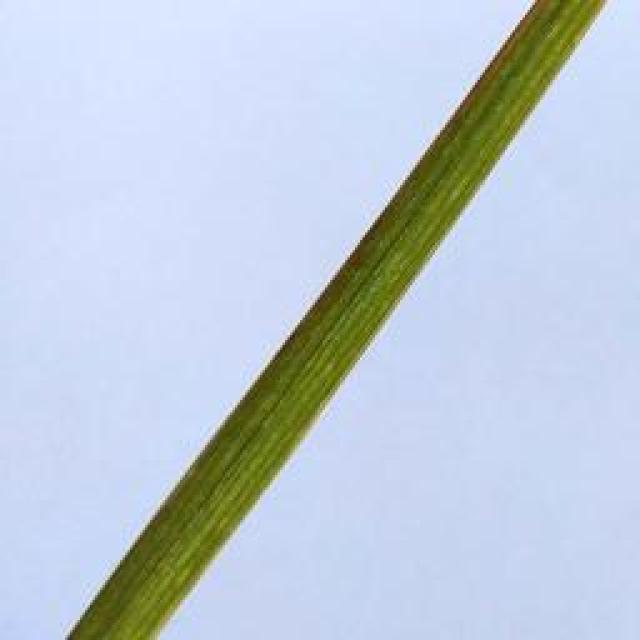Healthy-Plant: (55, 4, 606, 640)
